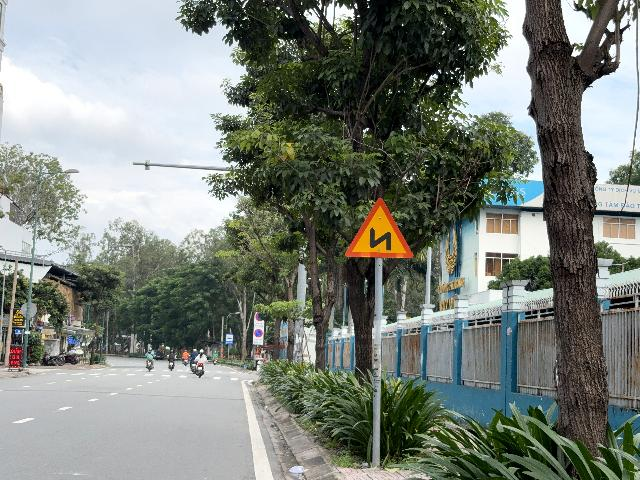nhieu-cho-ngoat-nguy-hiem-lien-tiep: (345, 197, 413, 259)
